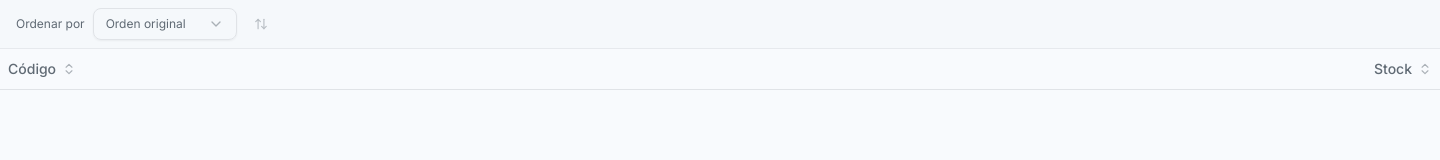
el orden de una tabla, recordado entre visitas › volver al orden original también se recuerda
Click the button "Código" at (32, 68), box [8,55,758,83]
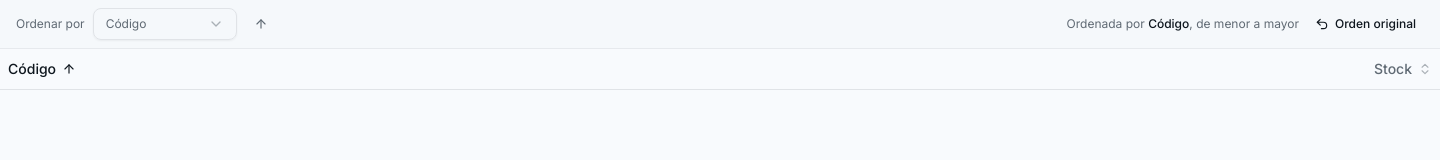
Click the button "Orden original" at (1366, 24), box [1307,12,1424,36]
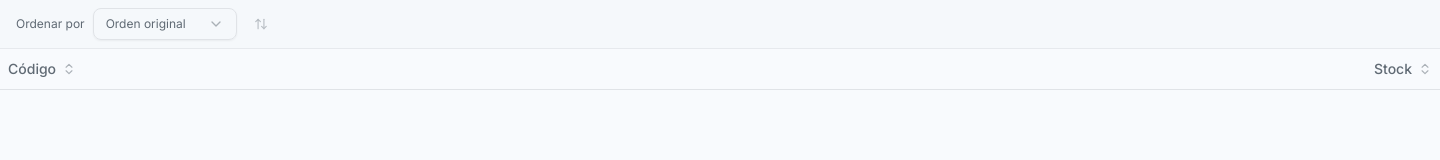
Expected: the text "Ordenada por" is gone
